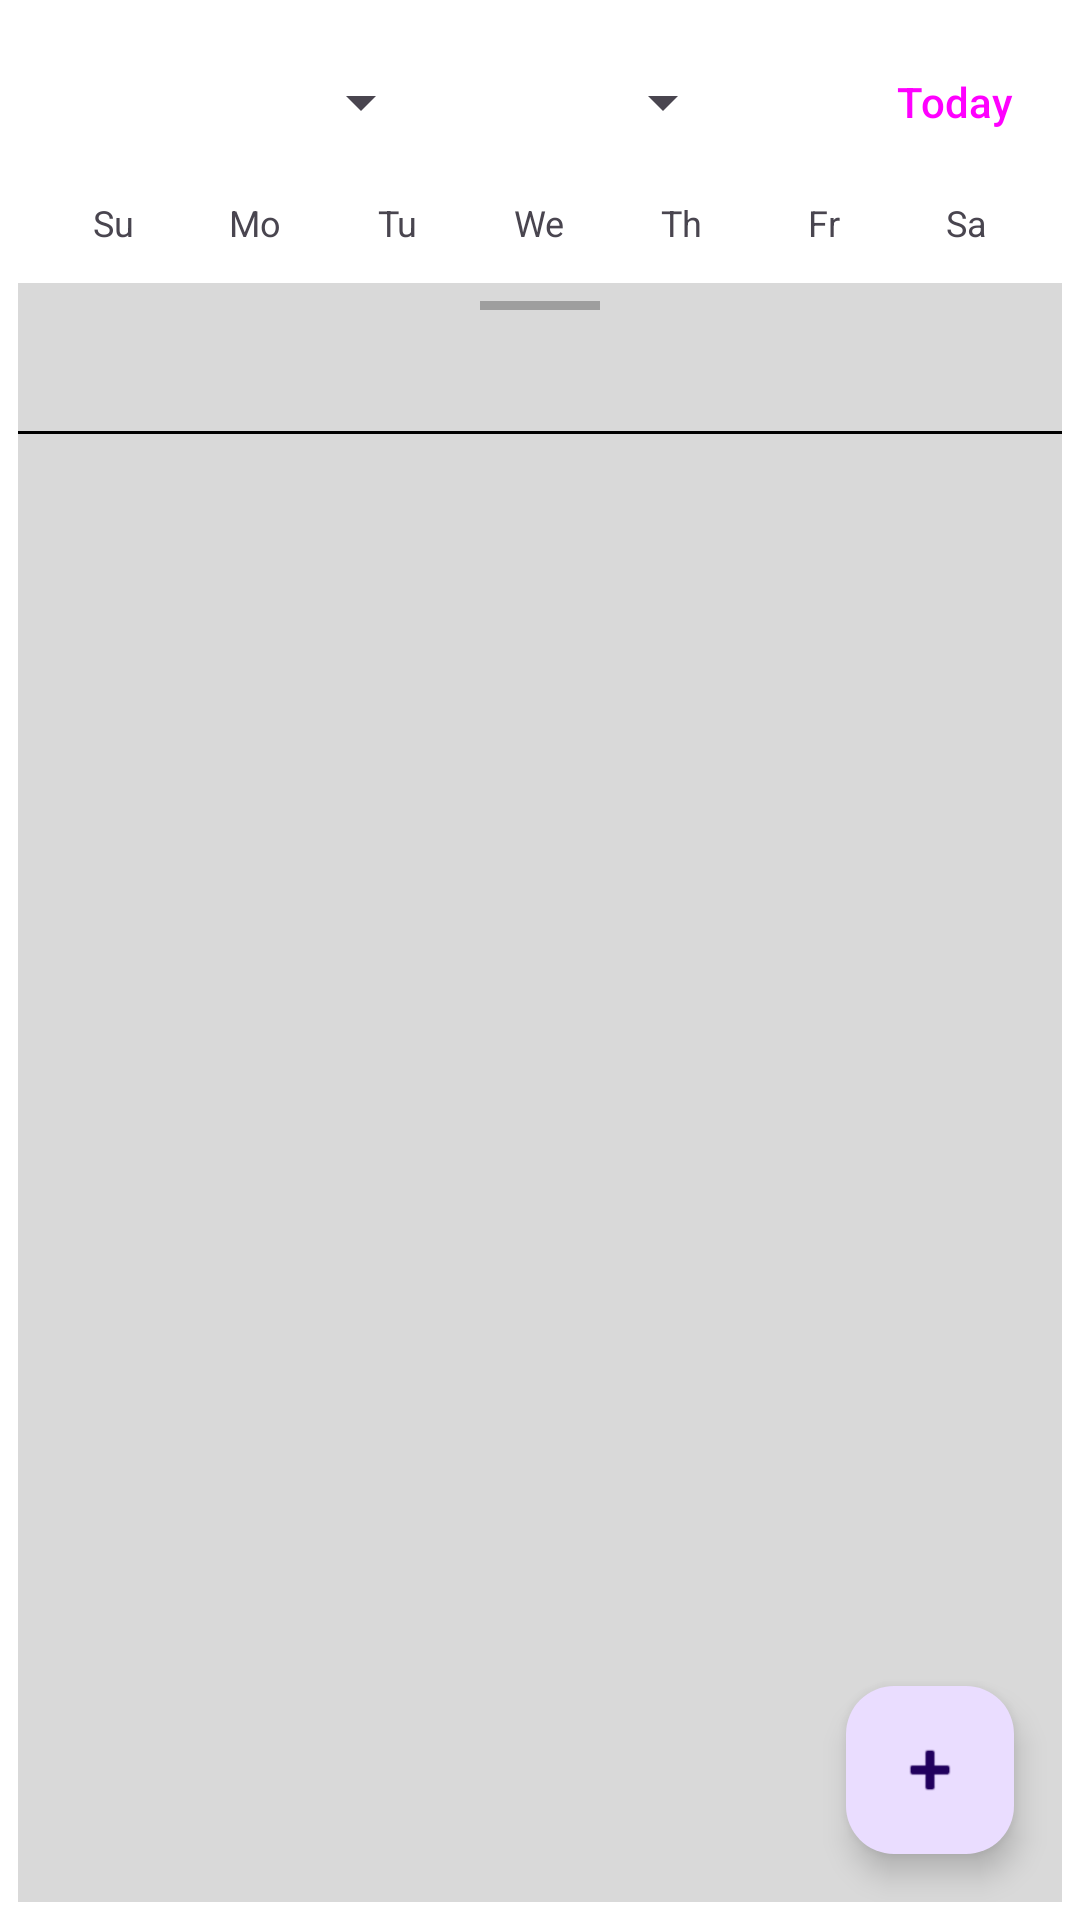

Locate icon controls on the screen. Image size 1080px×1920px, boxes as (left=x1, top=y1, right=x2, bottom=y2).
Add event: (left=846, top=1686, right=1014, bottom=1854)
